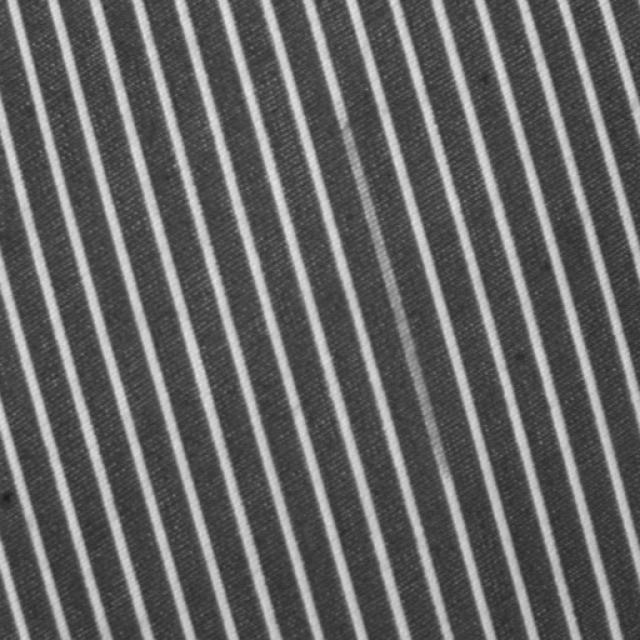Stain-Defect: (340, 125, 454, 488)
